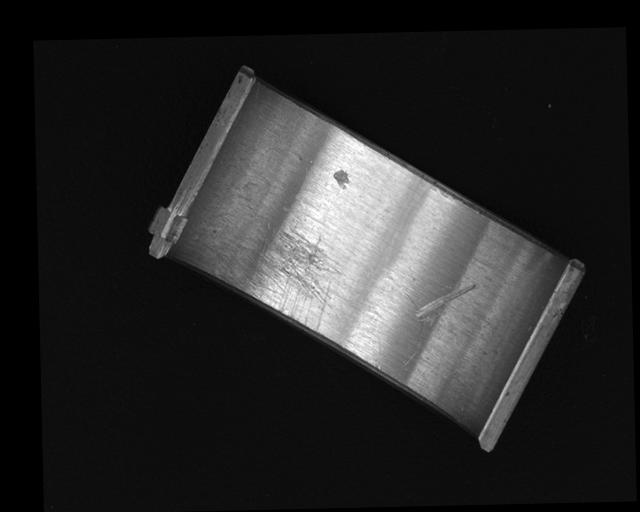bruise: (332, 167, 349, 190)
nick: (414, 282, 477, 324), (399, 288, 424, 368)
scratch: (218, 226, 347, 335)
